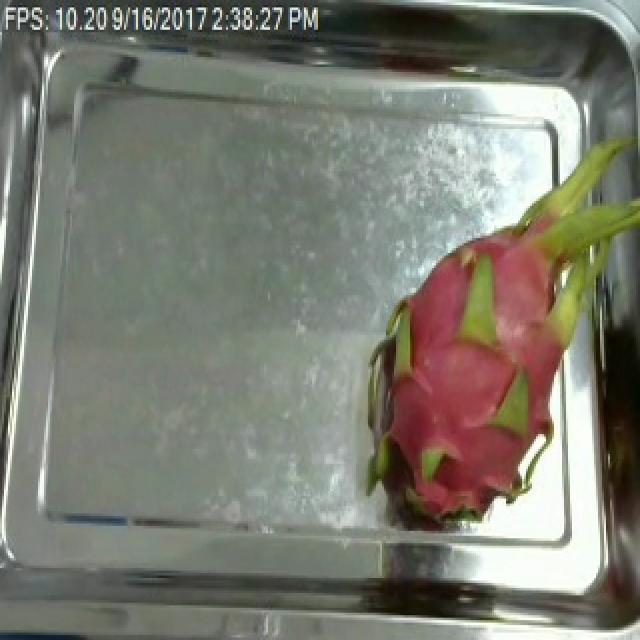fruit: (320, 152, 626, 548)
